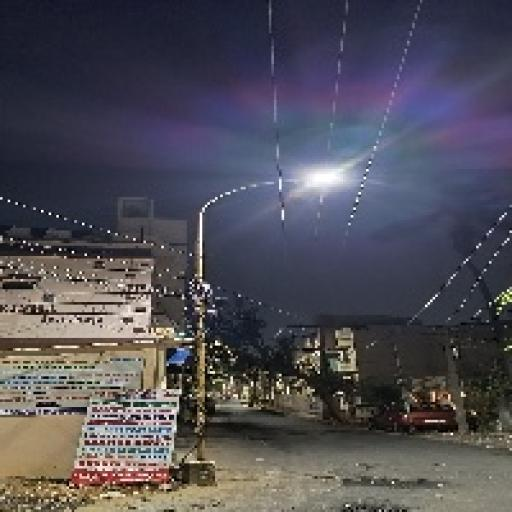Working: (296, 163, 350, 199)
